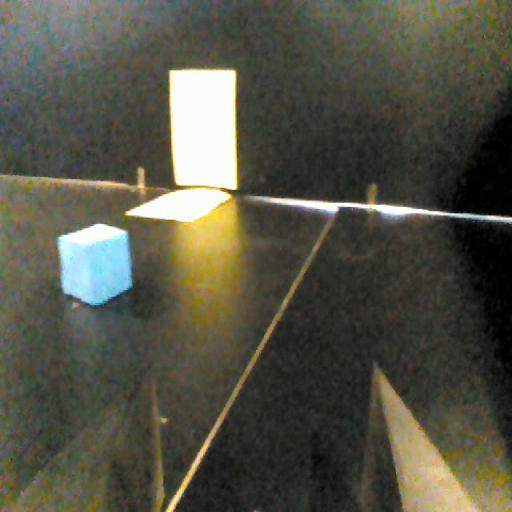cube: (56, 217, 133, 308)
